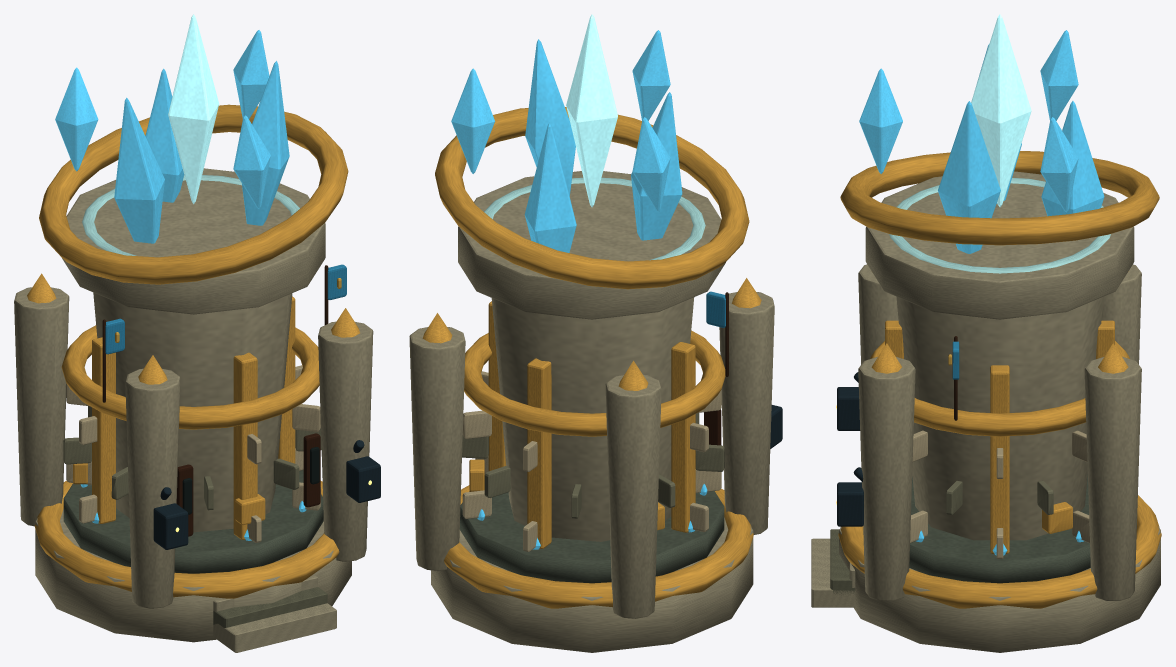
Rendered from tower-frost-3-base.glb.
3 views of the same model, side by side, from view 1: azimuth 30°, elevation 25°; view 2: azimuth 150°, elevation 25°; view 3: azimuth 270°, elevation 25° (orthographic).
Parts seen in each view (by area): view 1: Foundation, Turret, frost-L3-base; view 2: Foundation, Turret, frost-L3-base; view 3: Foundation, Turret, frost-L3-base.
Boxes of the visible parts, x1,y1,x2,y2 form: Foundation: [14, 264, 380, 652]; Turret: [39, 14, 348, 314]; frost-L3-base: [35, 470, 351, 642]; Foundation: [409, 278, 782, 618]; Turret: [435, 14, 749, 319]; frost-L3-base: [431, 491, 753, 652]; Foundation: [811, 264, 1161, 608]; Turret: [840, 14, 1159, 319]; frost-L3-base: [839, 474, 1160, 652].
Size of the model in its own units: 1.69 by 3.29 by 1.83.
Materials: 18 (18 with a texture image).
